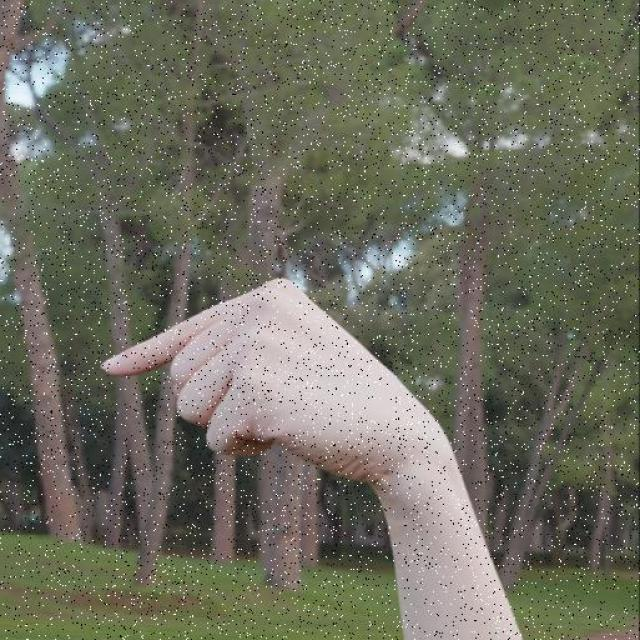G: (97, 276, 448, 472)
